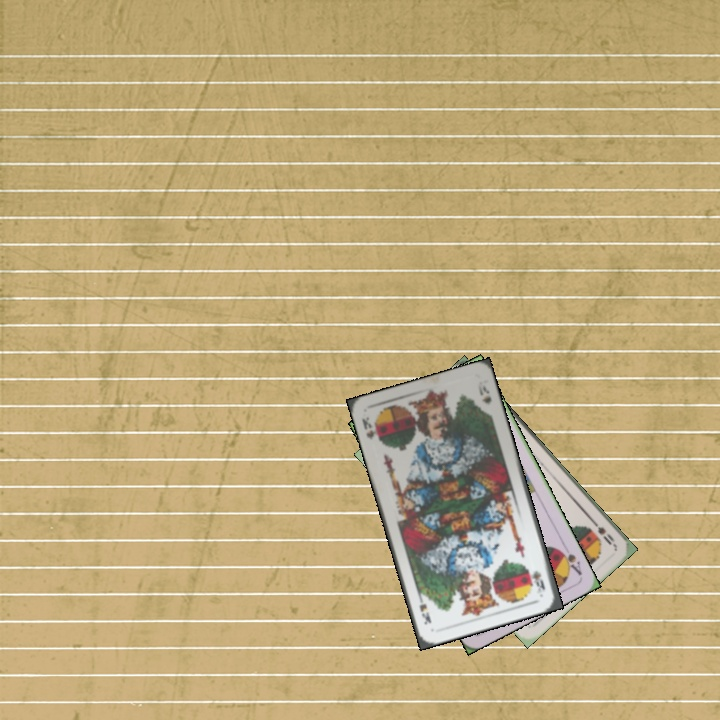SA: (554, 544, 585, 578)
SK: (358, 413, 383, 444), (528, 566, 548, 596)
SO: (587, 514, 618, 548)
